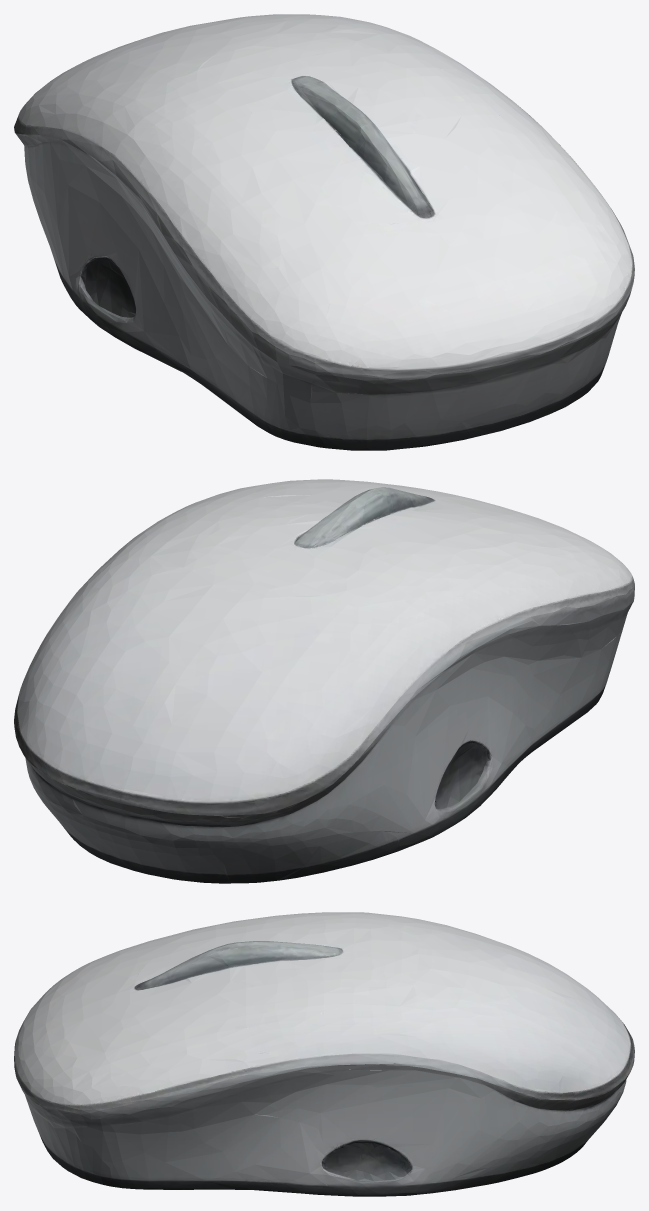
3 views of the same model, one above another, from view 1: azimuth 30°, elevation 25°; view 2: azimuth 150°, elevation 25°; view 3: azimuth 270°, elevation 25° (orthographic). The views are drawn at different scales.
Parts seen in each view (by area): view 1: geometry_0; view 2: geometry_0; view 3: geometry_0.
Boxes of the visible parts, x1,y1,x2,y2 form: geometry_0: (14, 14, 634, 450); geometry_0: (14, 479, 634, 883); geometry_0: (14, 912, 634, 1196).
Size of the model in its own units: 0.5752 by 0.3261 by 1.
1 material, 1 textured.
